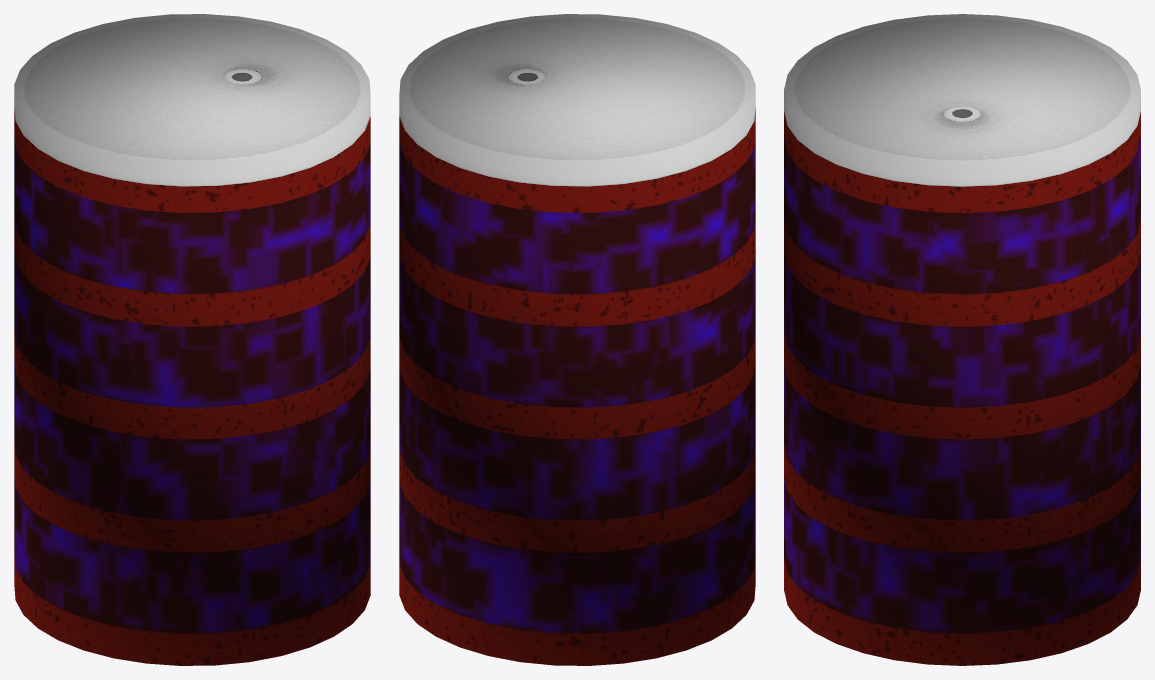
File: barrel.fbx
The picture shows the model from 3 angles, left to right: view 1: azimuth 30°, elevation 25°; view 2: azimuth 150°, elevation 25°; view 3: azimuth 270°, elevation 25°; orthographic projection.
Visible parts, largest first — view 1: Cylinder; view 2: Cylinder; view 3: Cylinder.
Boxes of the visible parts, x1,y1,x2,y2 form: Cylinder: (14, 14, 370, 665); Cylinder: (399, 14, 755, 665); Cylinder: (784, 14, 1140, 665).
Size of the model in its own units: 2 by 3.1 by 2.
Materials: 1 (1 with a texture image).
